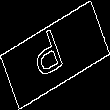P_SE: (34, 24, 76, 86)
